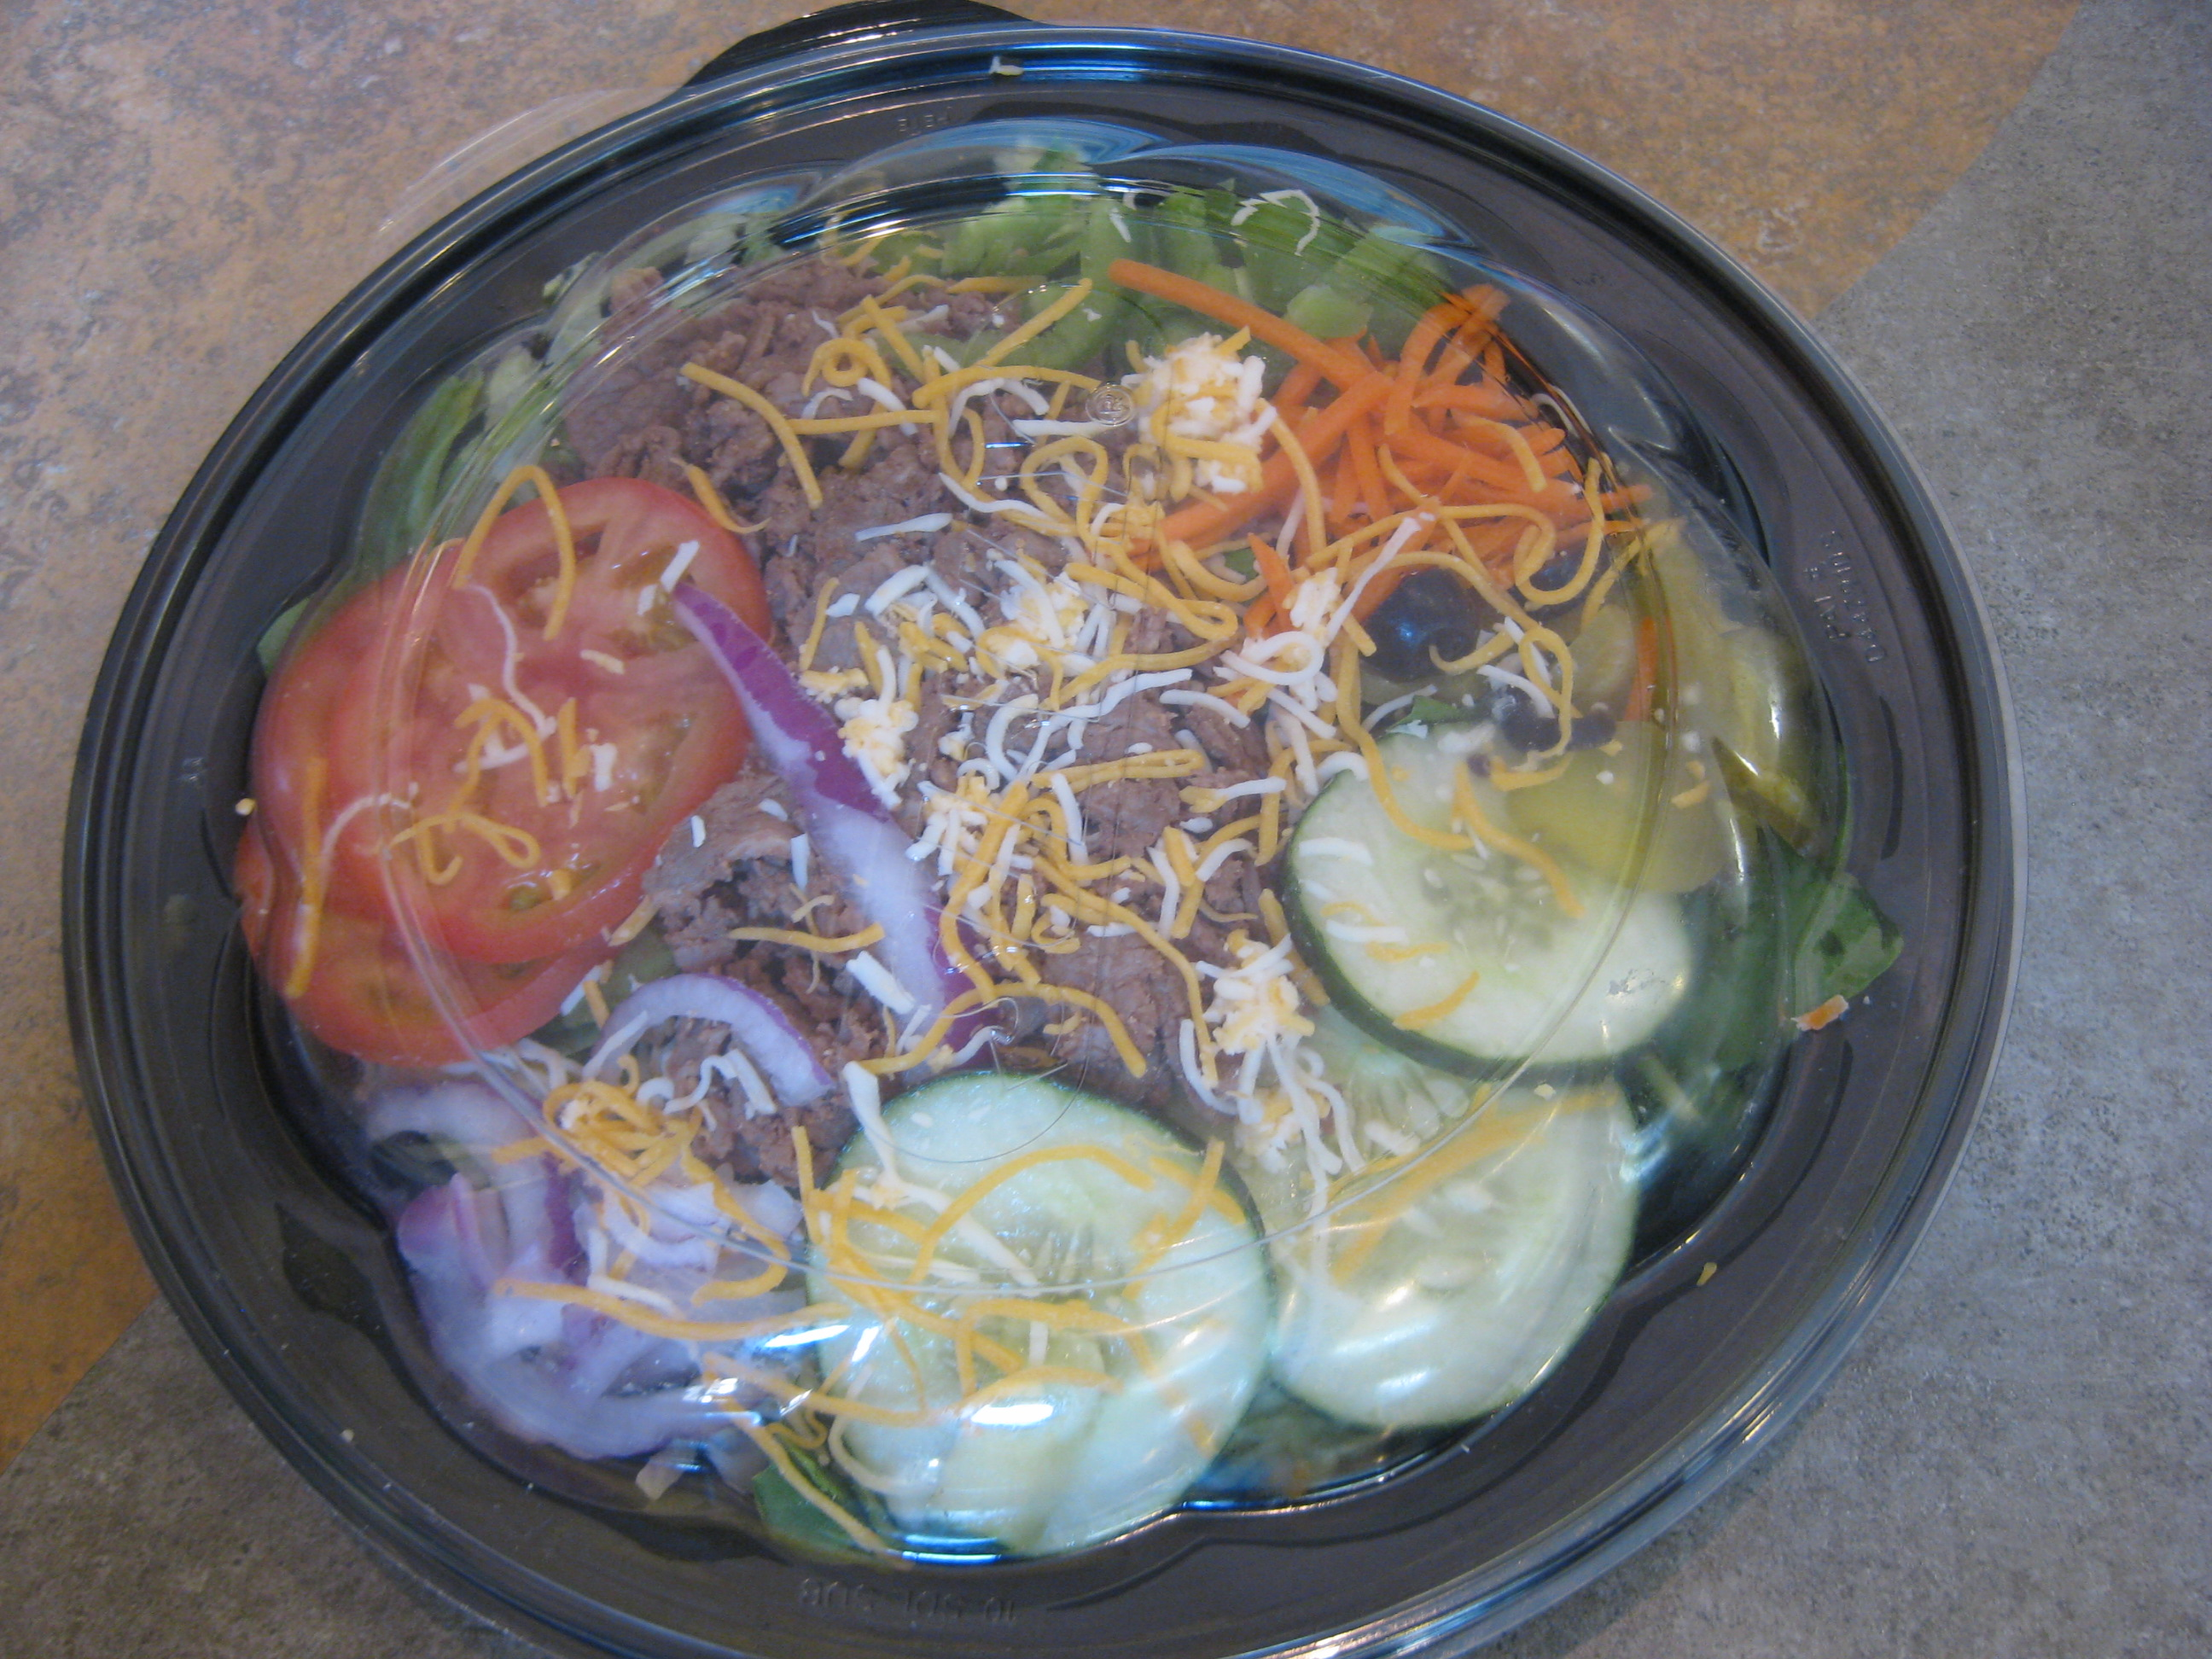salad: (276, 180, 1860, 1541)
